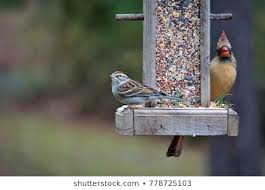home_sparrow: (105, 69, 185, 108)
